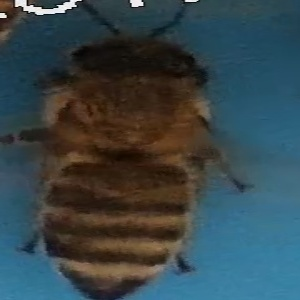bee: (25, 30, 250, 300)
